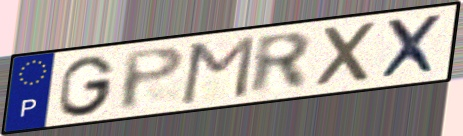G: (56, 54, 118, 119)
M: (177, 33, 259, 107)
P: (118, 43, 188, 113)
R: (248, 30, 314, 98)
X: (314, 18, 382, 91), (378, 11, 446, 82)
